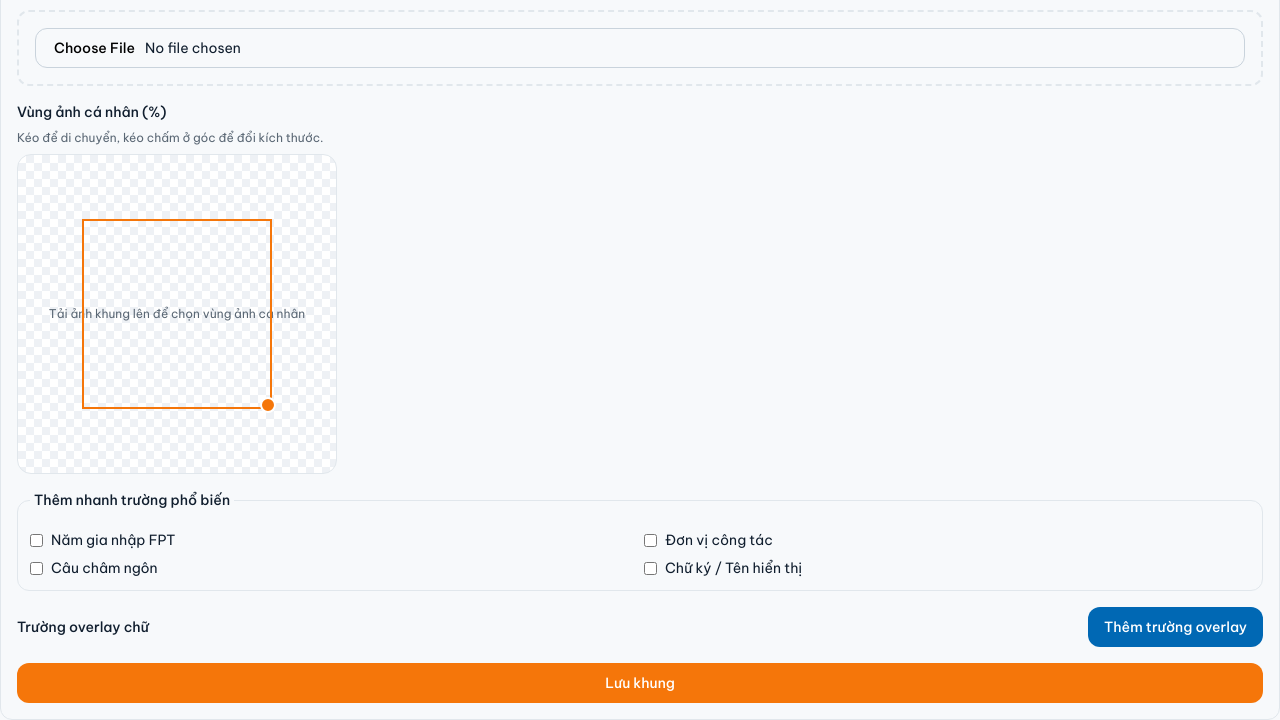
Scenario: TemplateForm › shows a validation error when name or frame image is missing
(page scrolled)
Click the button "Lưu khung" at (640, 683), box [17,663,1263,703]
(page scrolled)
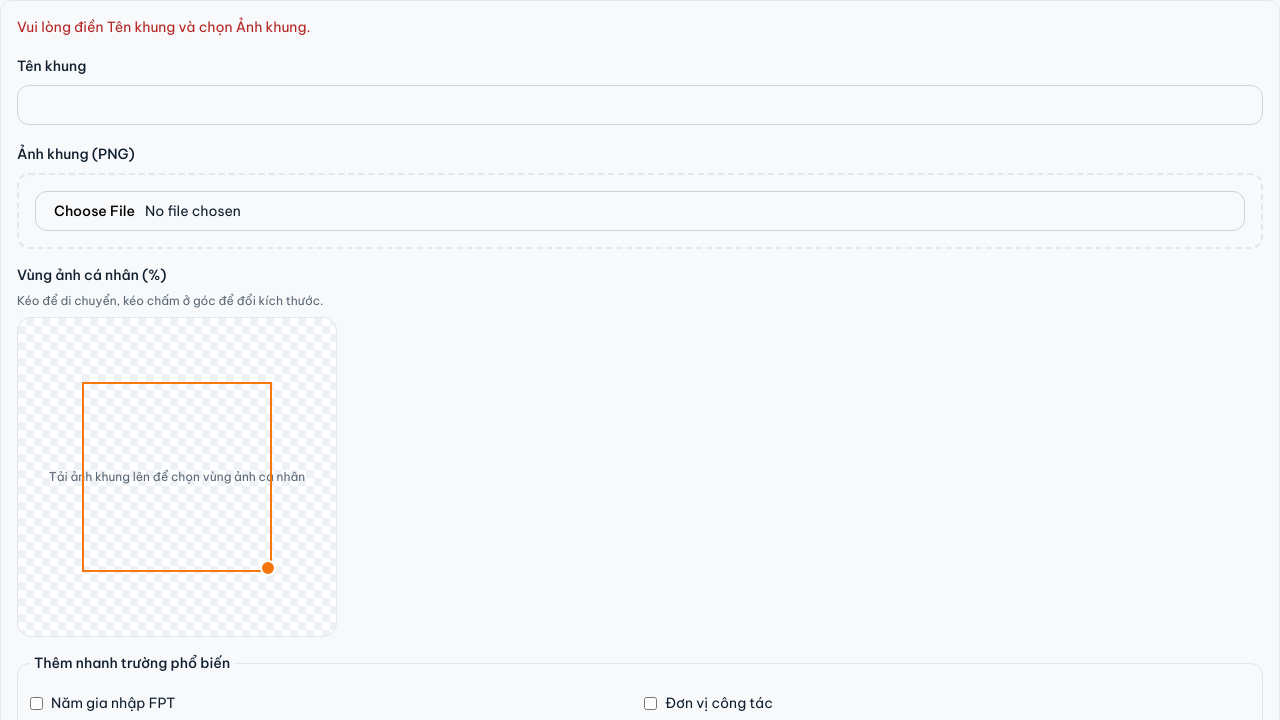
Result: the message "Vui lòng điền Tên khung và chọn Ảnh khung." is shown at [17,18,310,36]
